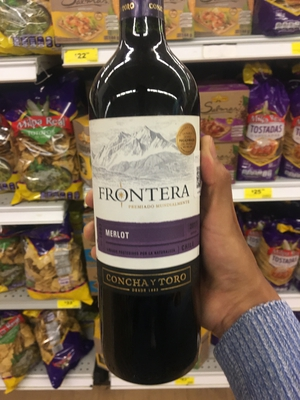frontera merlot: (81, 6, 225, 389)
